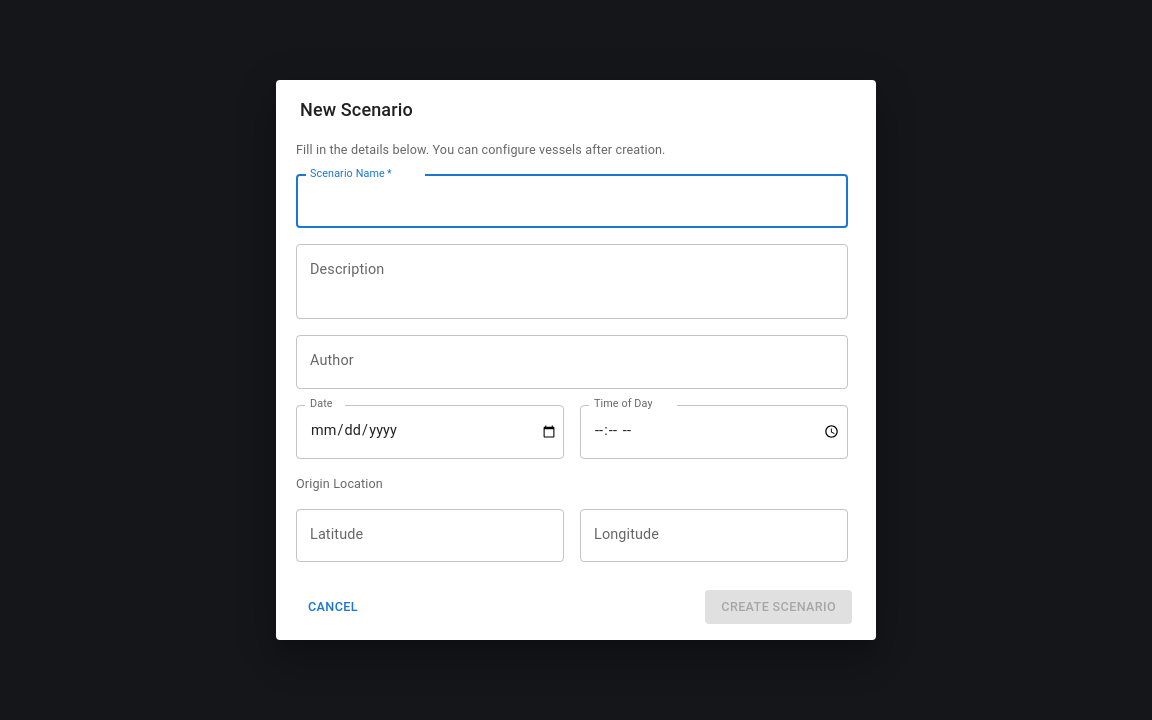
Test: CreateScenarioDialog › Create Scenario button enables when name is filled
Type "my-scenario" into the field labelled "Scenario Name *" at [586, 201], box [296,174,876,228]
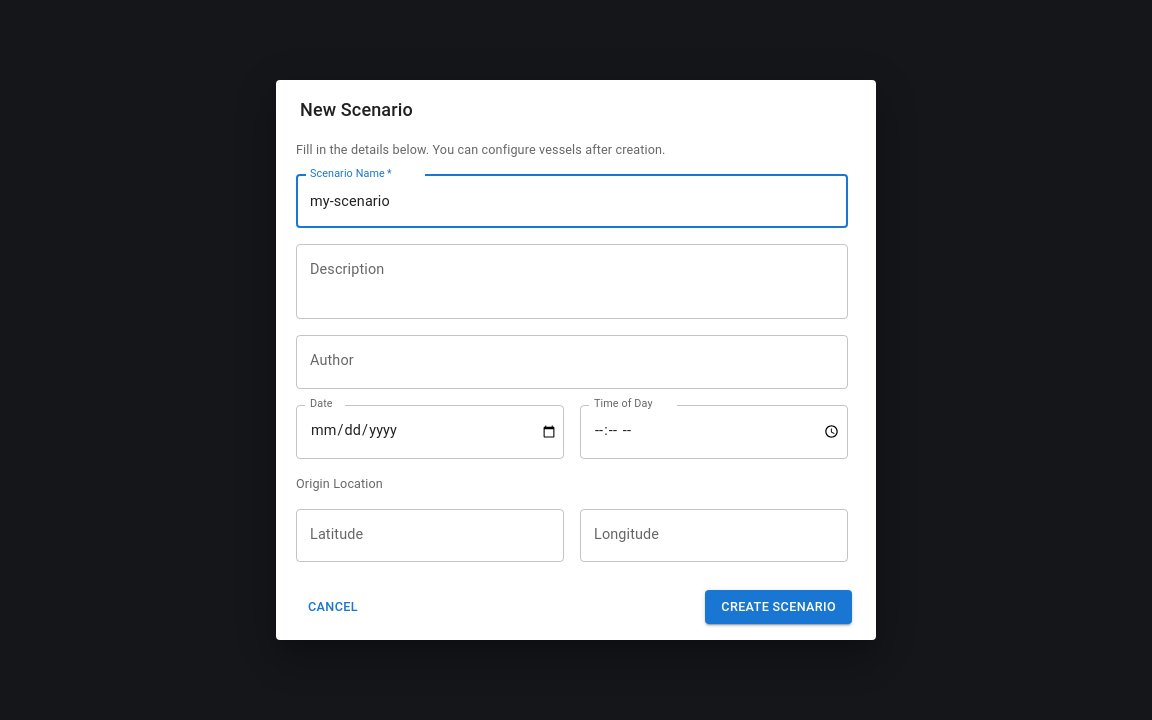
Now the button "Create Scenario" is enabled, box [705,590,852,624]
